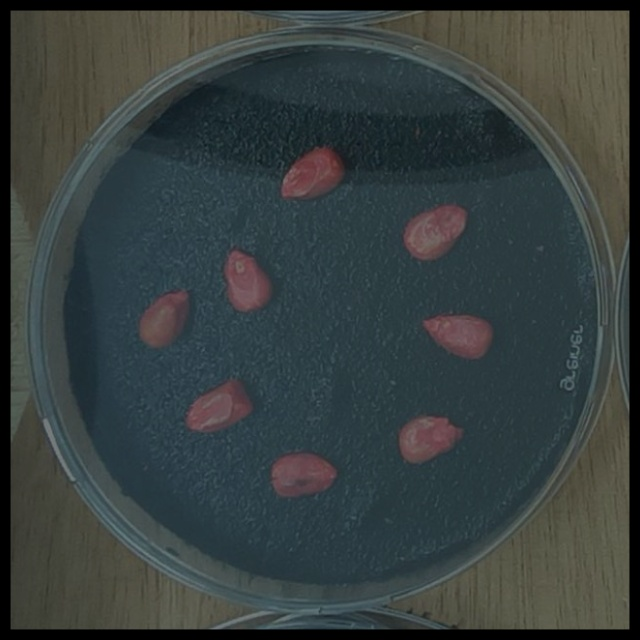Zea mays: (396, 199, 476, 269), (178, 374, 261, 440), (272, 143, 352, 209), (216, 240, 279, 320), (392, 407, 470, 471), (131, 282, 198, 355), (264, 445, 344, 506), (416, 309, 499, 367)
